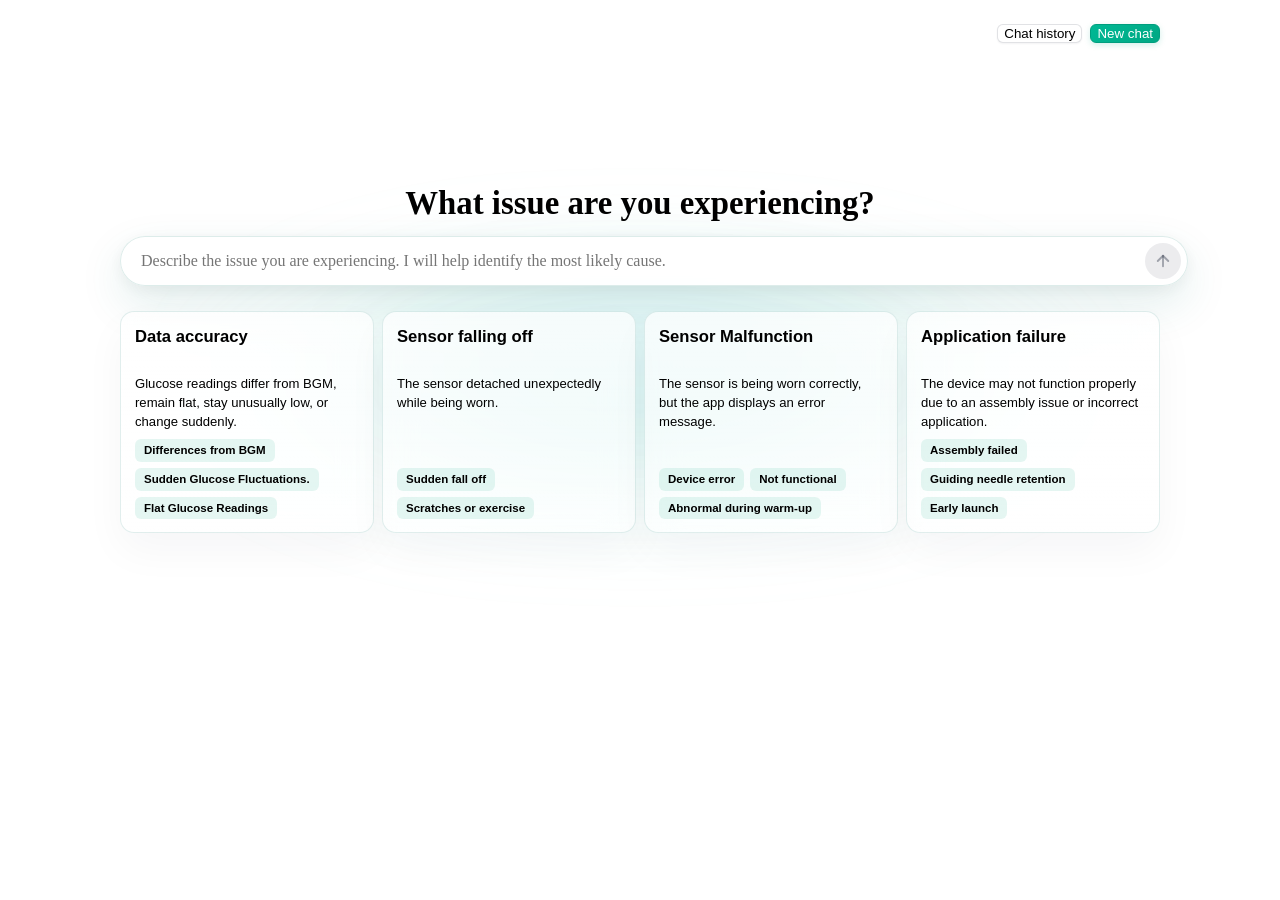
Test: AgentChatView › does not auto-run detect even when the user provides a full SN
Replace the text in the text box named "Describe the case" with "SN P2251212806JND44 has persistent low readings." at (637, 261), box [141,245,1133,277]
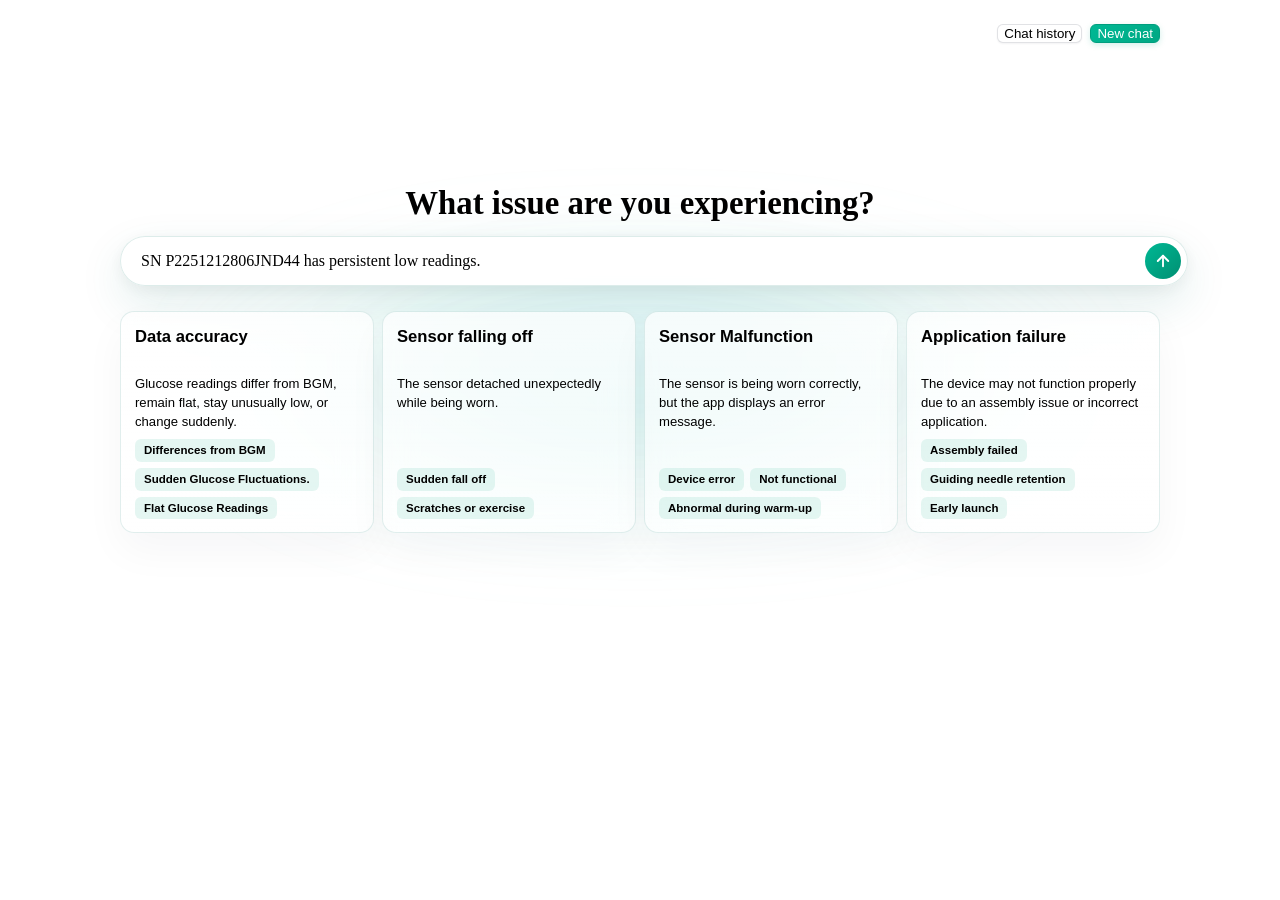
Submit the form, box [120,236,1188,286]
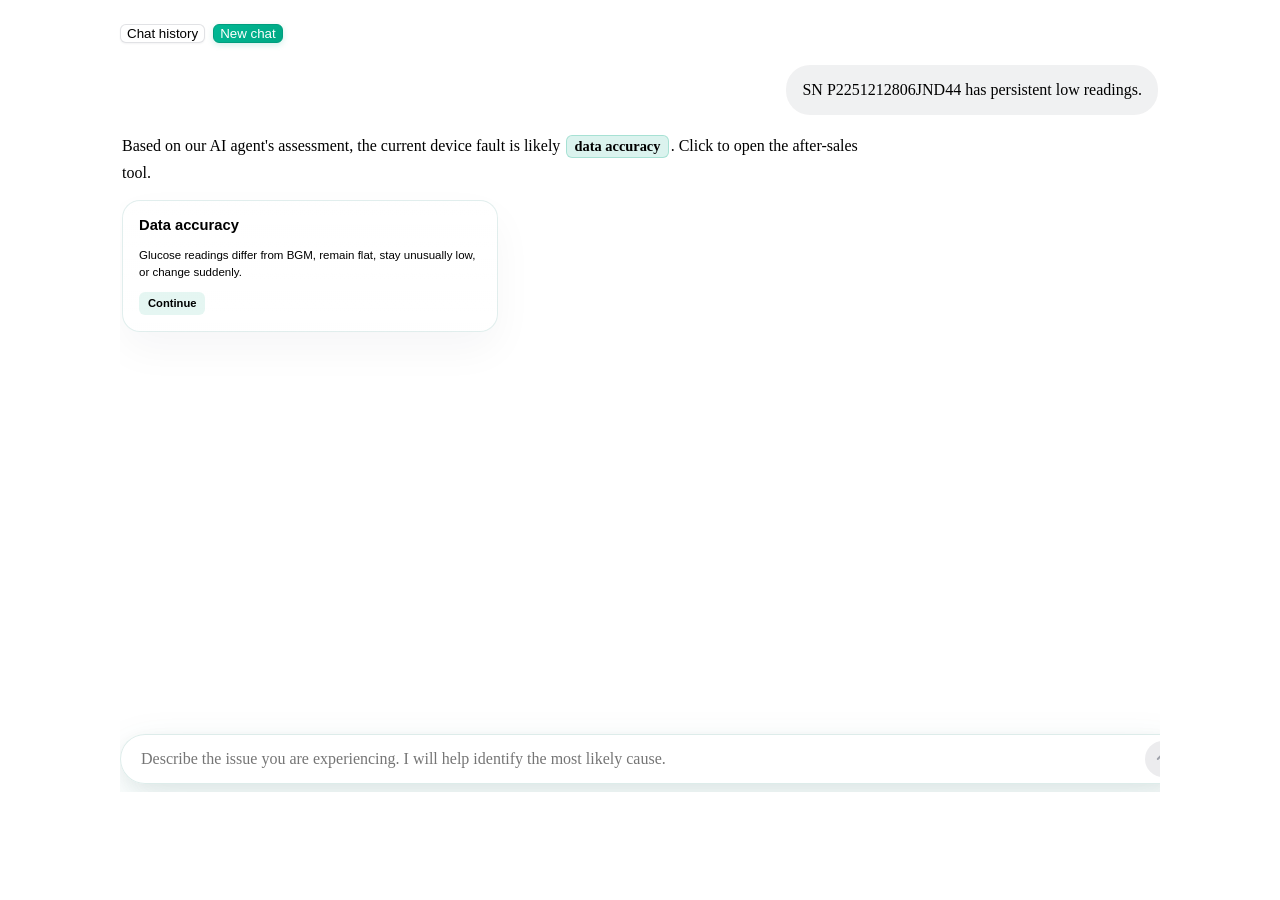
Now the button with test id "recommended-fault-card" shows "Data accuracy", box [122,200,498,332]
